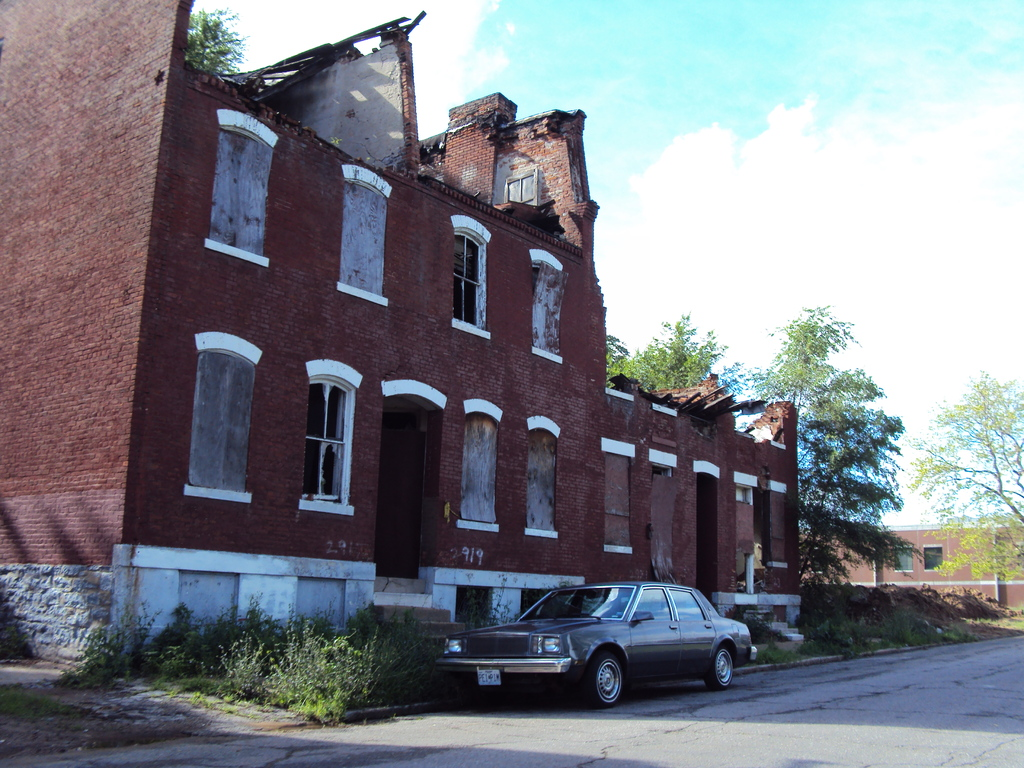cars: (435, 575, 761, 705)
